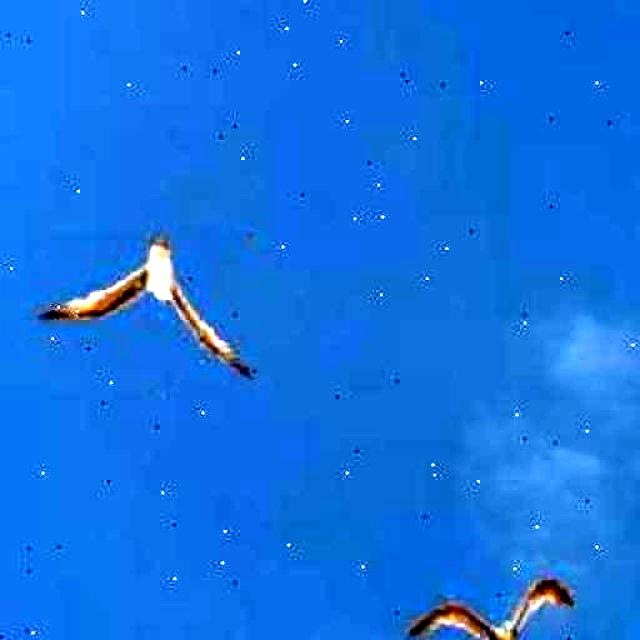airplane: (34, 228, 254, 391), (400, 576, 582, 640)
